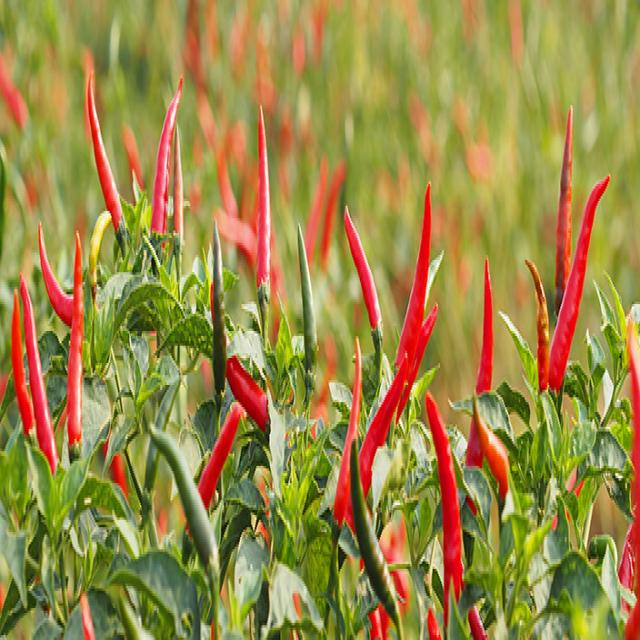chilli: (424, 384, 463, 600), (569, 172, 611, 349), (88, 63, 130, 235), (343, 202, 384, 341), (400, 176, 436, 334), (68, 226, 87, 462), (294, 224, 318, 401), (255, 96, 272, 321), (22, 277, 46, 423), (211, 211, 228, 411), (36, 221, 68, 326)
